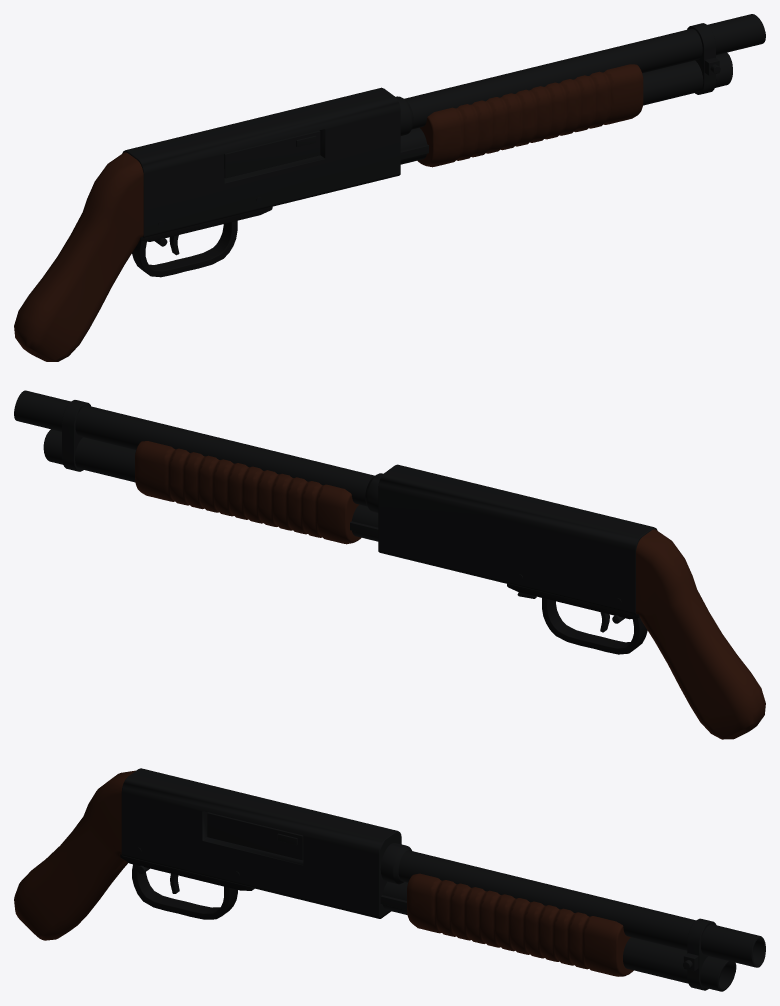
The model's file is h_reaver.glb.
3 renders of one model, top to bottom at view 1: azimuth 30°, elevation 25°; view 2: azimuth 150°, elevation 25°; view 3: azimuth 330°, elevation 25°, orthographic.
Visible parts, largest first — view 1: SM_W_h_reaver; view 2: SM_W_h_reaver; view 3: SM_W_h_reaver.
Boxes of the visible parts, box(x1,y1,x2,y2) form: SM_W_h_reaver: box(14, 14, 765, 361); SM_W_h_reaver: box(14, 390, 765, 739); SM_W_h_reaver: box(14, 768, 765, 991).
Size of the model in its own units: 0.6046 by 0.1427 by 0.0445.
